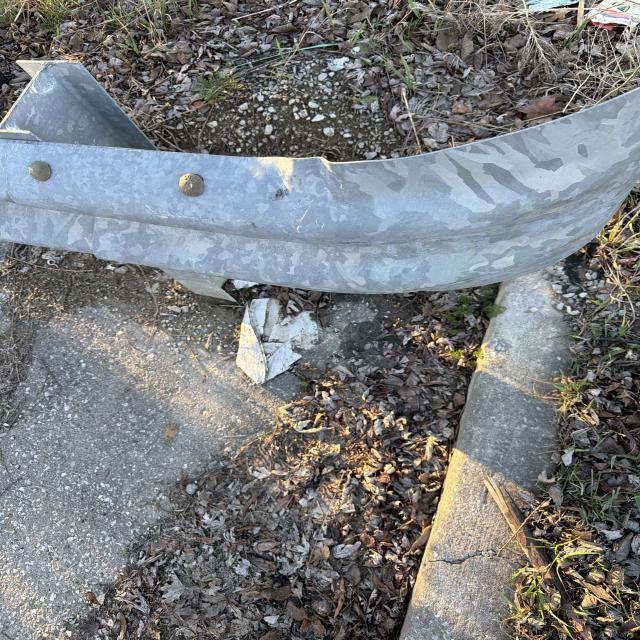Guard rail: (12, 91, 609, 285)
